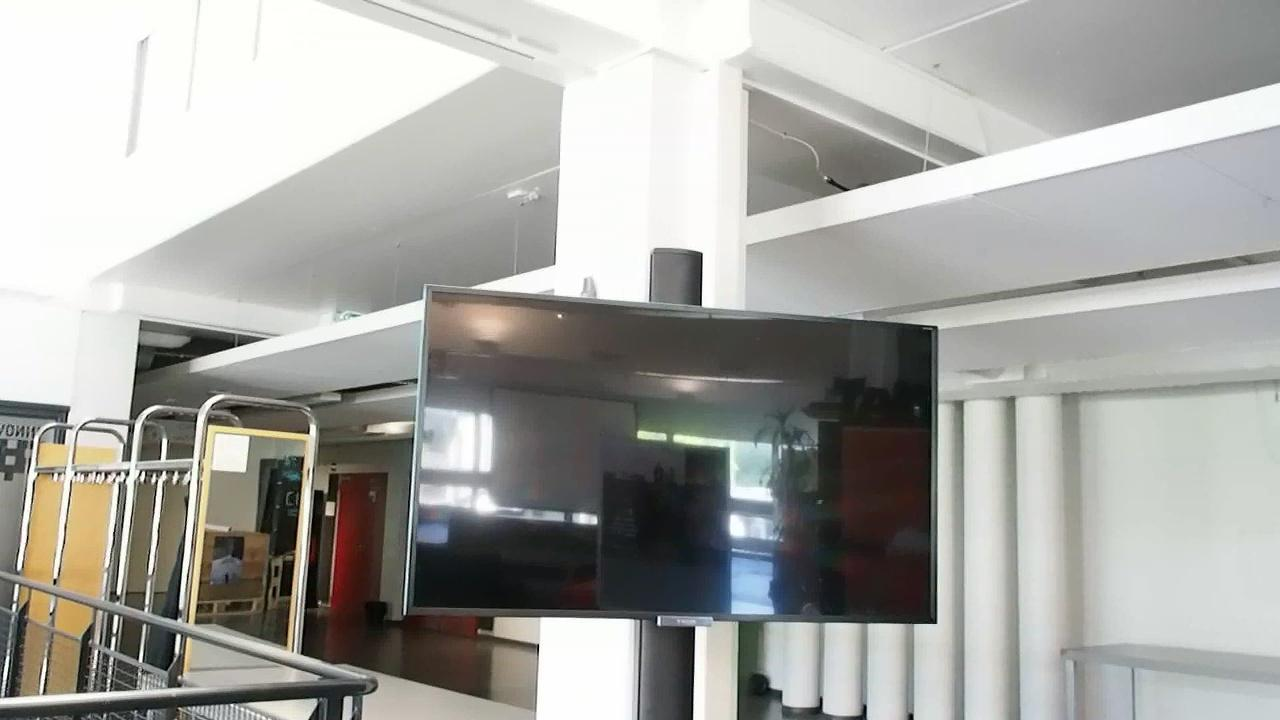screen: (400, 284, 950, 633)
